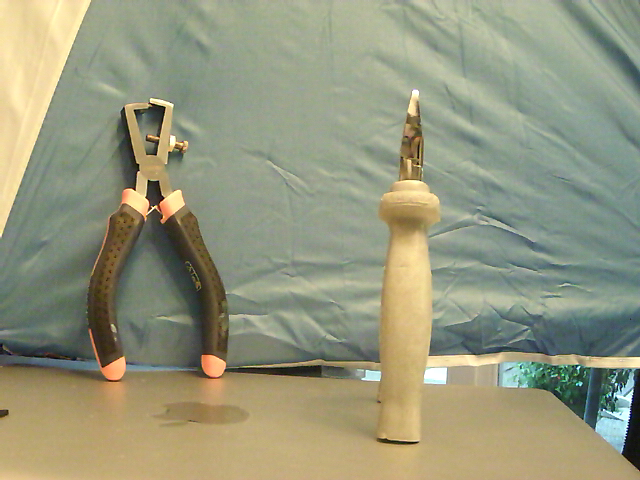pliers: (371, 91, 447, 448)
